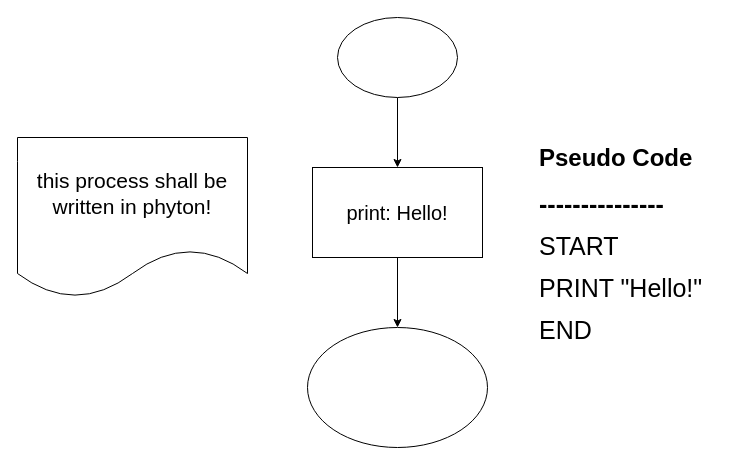
Some shapes in this 735 by 465 pixel diagram are drawn without their labels. Each missing label, with the centre of its shape:
End: point (397, 387)
Start: point (397, 57)
